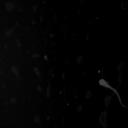fish: (98, 78, 128, 109)
